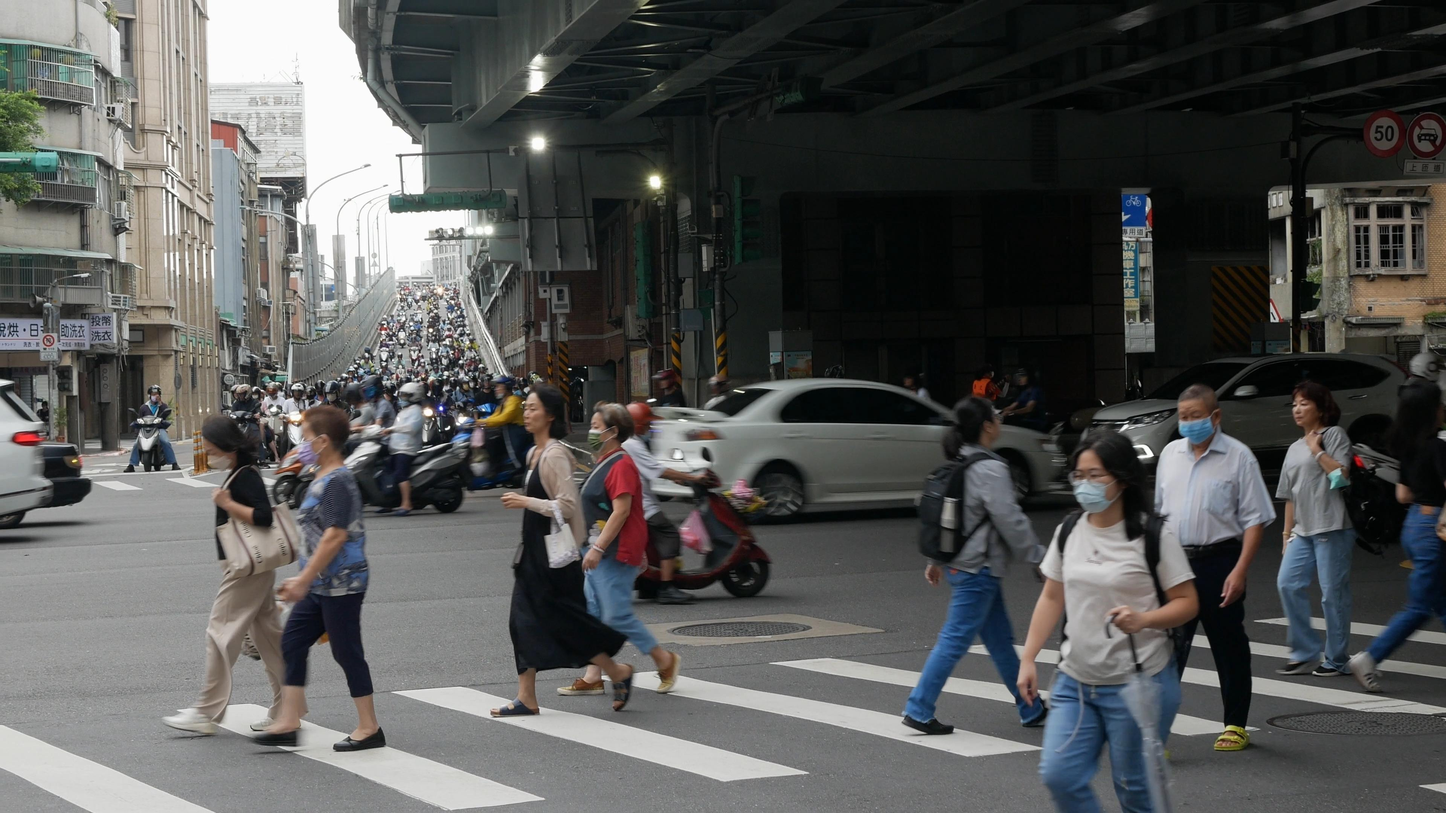driver: (620, 402, 773, 604), (344, 382, 471, 516), (450, 374, 533, 491), (123, 384, 181, 473), (222, 384, 271, 469), (276, 383, 315, 461)
helmet: (625, 402, 664, 436), (1409, 352, 1441, 383), (357, 375, 384, 404), (397, 382, 425, 409), (1012, 365, 1039, 391), (489, 374, 515, 401), (651, 368, 677, 390), (323, 380, 341, 402), (429, 378, 446, 398), (457, 376, 473, 392), (236, 384, 251, 401), (147, 384, 161, 402), (290, 383, 304, 400), (266, 382, 278, 401)
no-helmet: (1067, 424, 1147, 514), (1385, 379, 1446, 463), (942, 396, 1002, 461), (202, 413, 262, 471), (298, 405, 350, 465), (1177, 383, 1222, 447), (523, 381, 568, 441), (587, 400, 634, 456), (1292, 380, 1341, 427)
